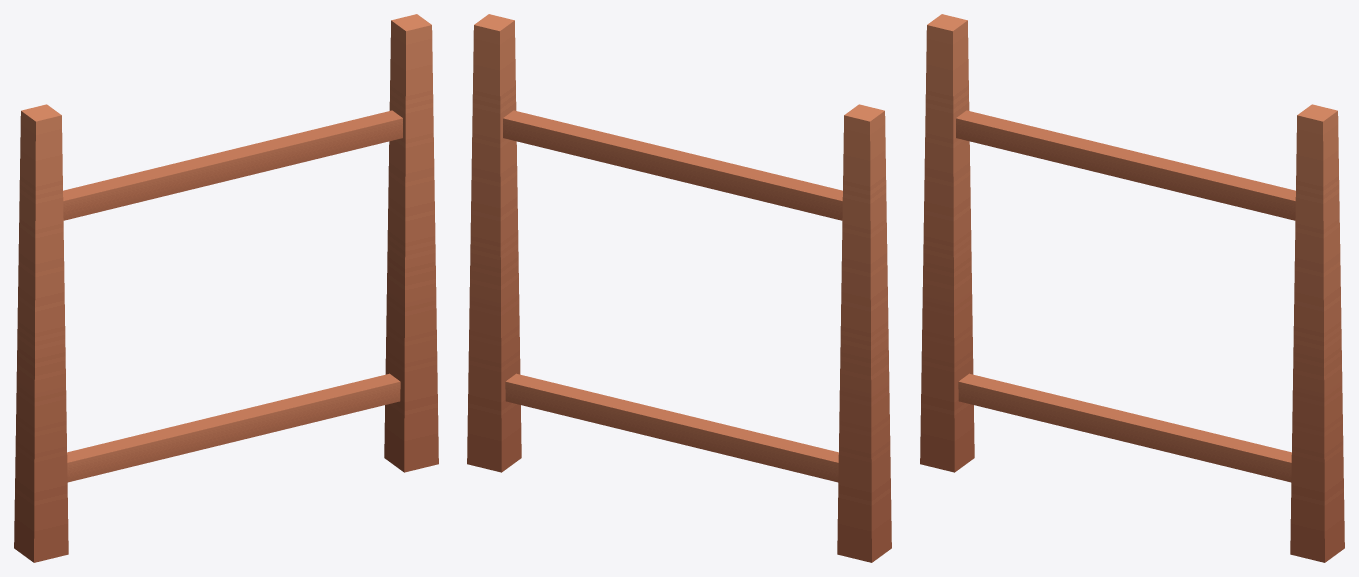
Rendered from kenney-fence.glb.
The picture shows the model from 3 angles, left to right: view 1: azimuth 30°, elevation 25°; view 2: azimuth 150°, elevation 25°; view 3: azimuth 330°, elevation 25°; orthographic projection.
Parts seen in each view (by area): view 1: fence; view 2: fence; view 3: fence.
Boxes of the visible parts, <box> form: fence: <box>14,14,438,562</box>; fence: <box>467,14,891,562</box>; fence: <box>920,14,1344,562</box>.
Bounding box in the file's own units: 0.5 × 0.5175 × 0.0428.
1 material, 1 textured.
